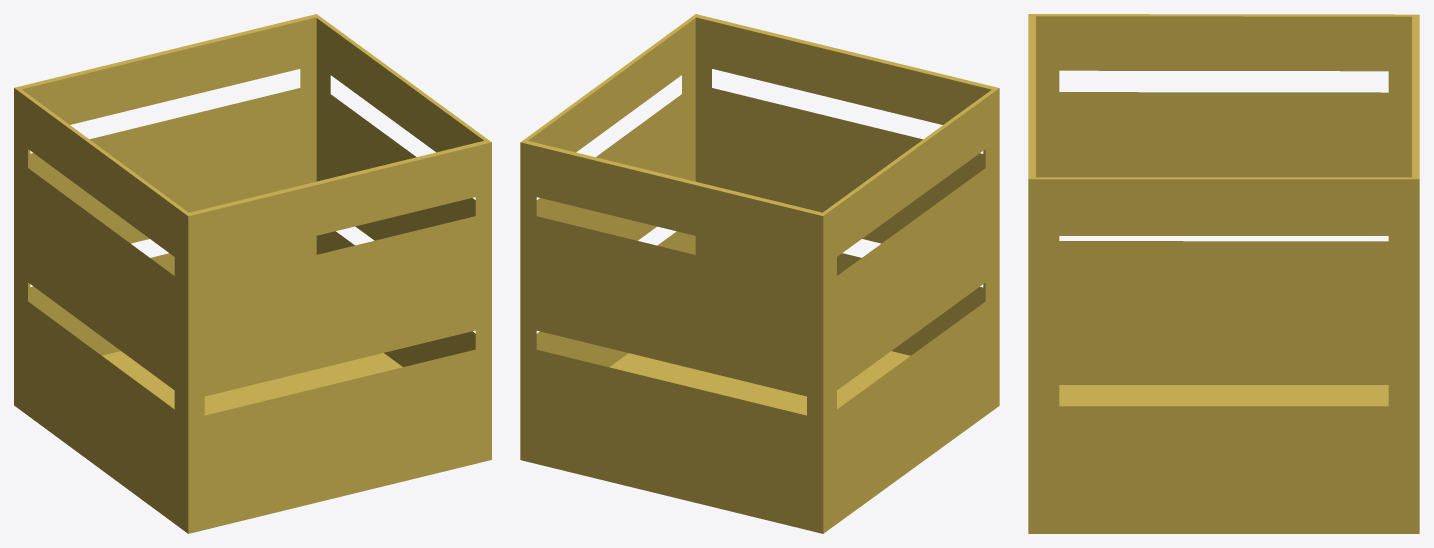
Rendered from sh-contrib-guacal.glb.
3 renders of one model, left to right at view 1: azimuth 30°, elevation 25°; view 2: azimuth 150°, elevation 25°; view 3: azimuth 270°, elevation 25°, orthographic. The views are drawn at different scales.
Visible parts, largest first — view 1: 1_1; view 2: 1_1; view 3: 1_1.
Boxes of the visible parts, x1,y1,x2,y2 form: 1_1: (14,14,491,533); 1_1: (520,14,999,533); 1_1: (1028,14,1419,533).
Size of the model in its own units: 1 by 1 by 1.
